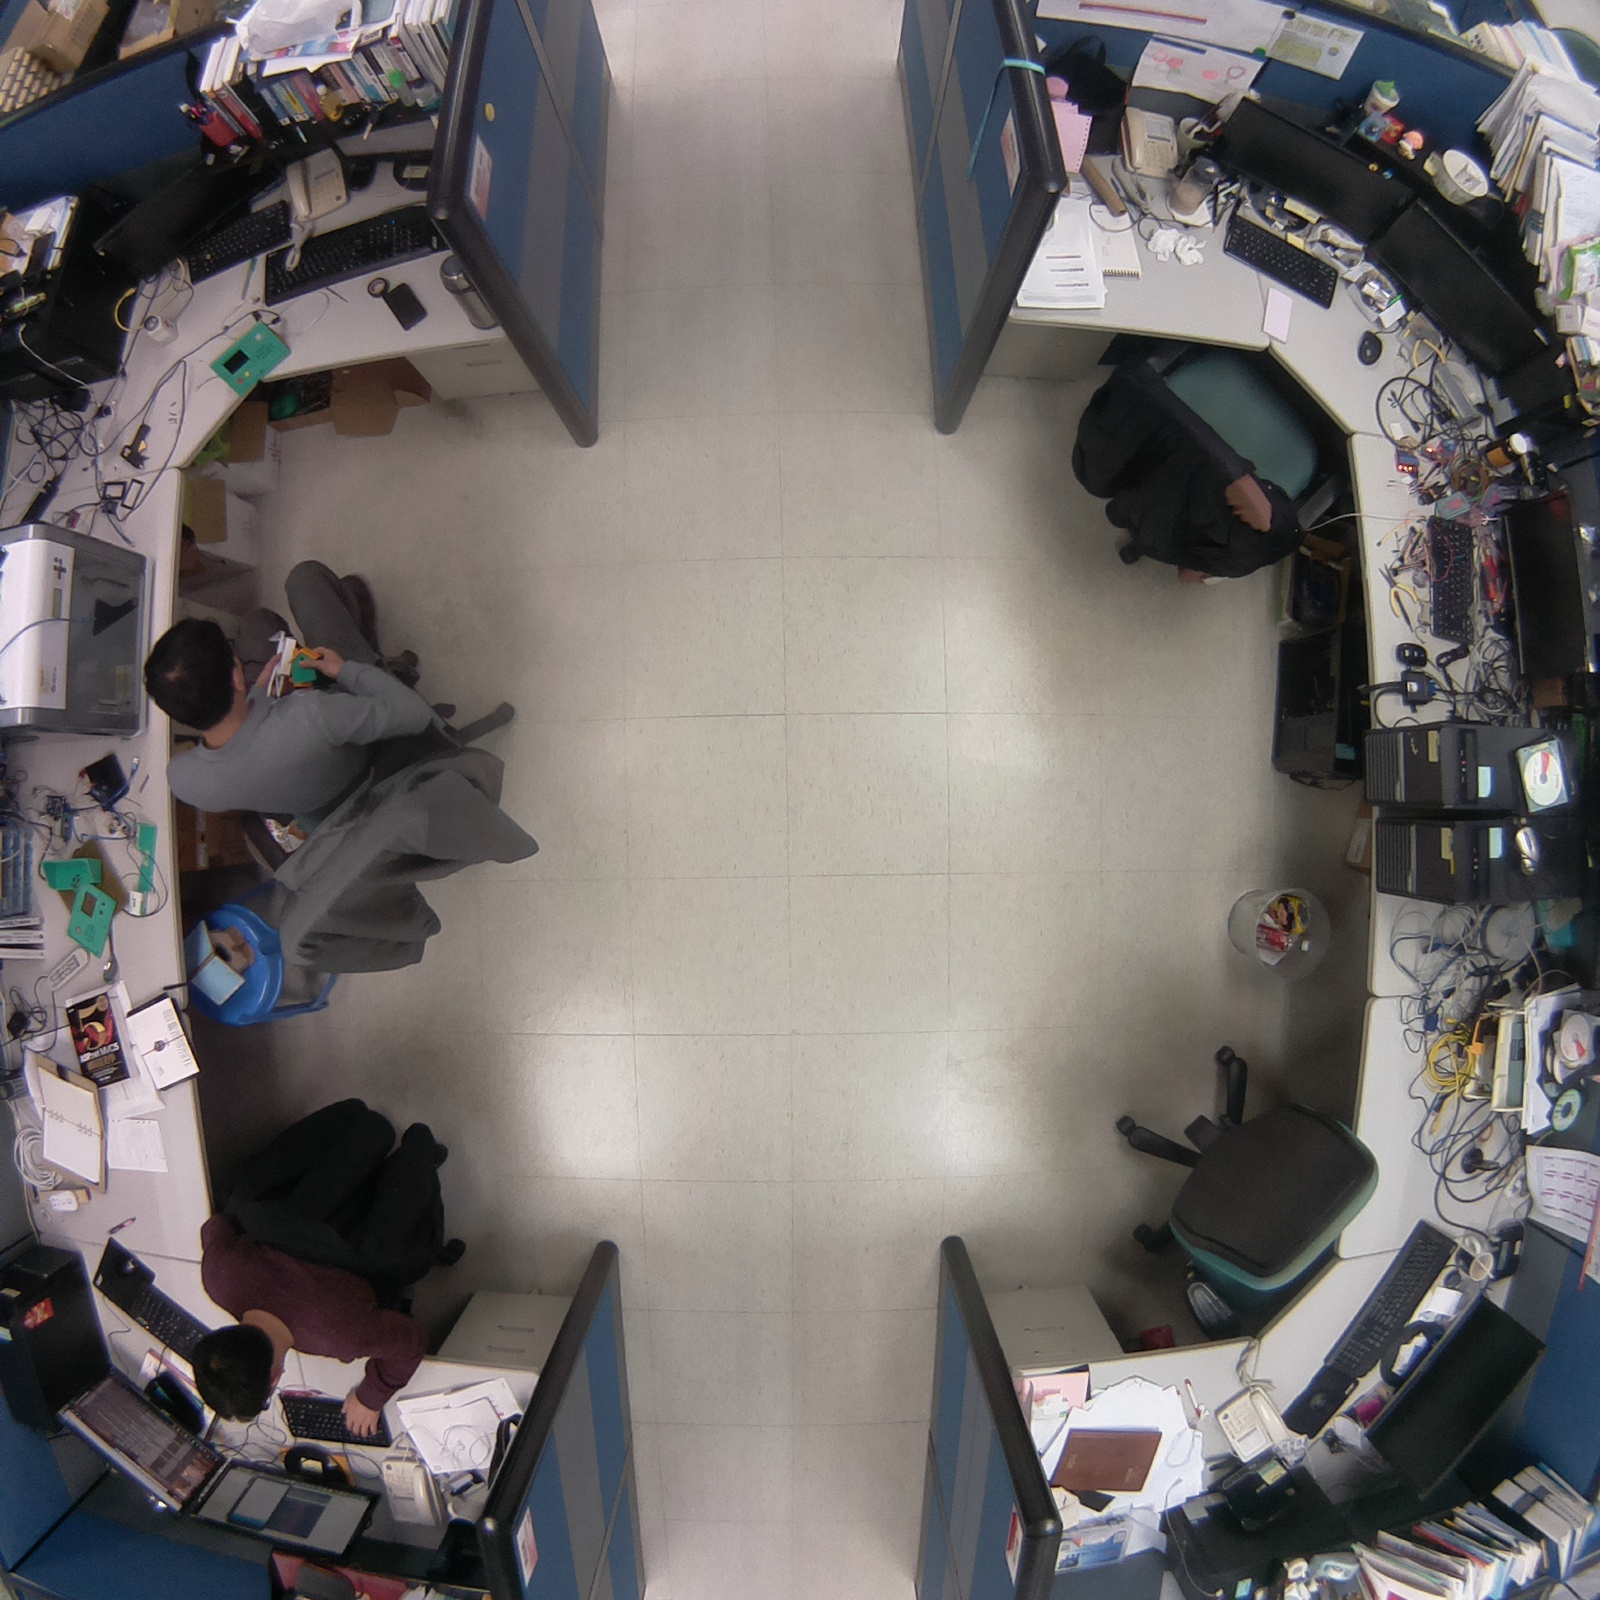chair: (1088, 1032, 1394, 1352), (1055, 327, 1360, 601)
head: (132, 612, 255, 740), (187, 1312, 289, 1427)
sitting: (121, 552, 553, 999), (181, 1070, 481, 1441)
